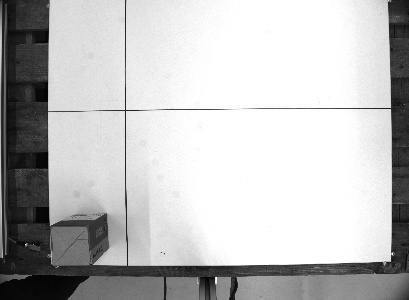b4: (48, 210, 112, 269)
